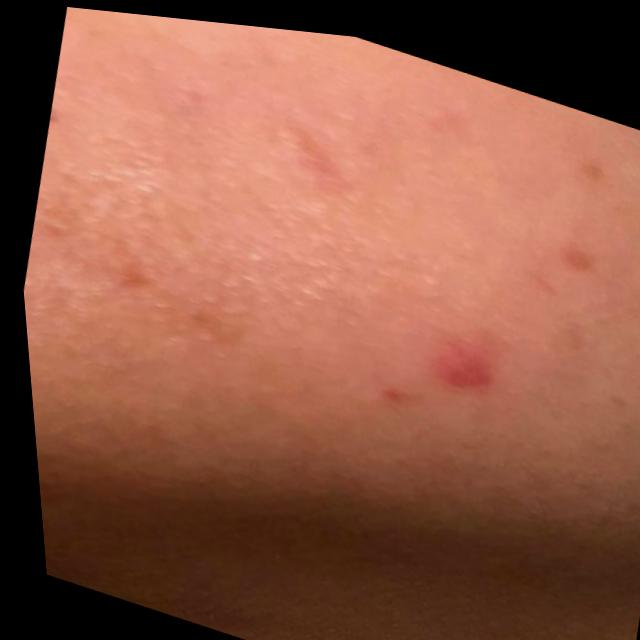papule: (341, 307, 508, 411)
